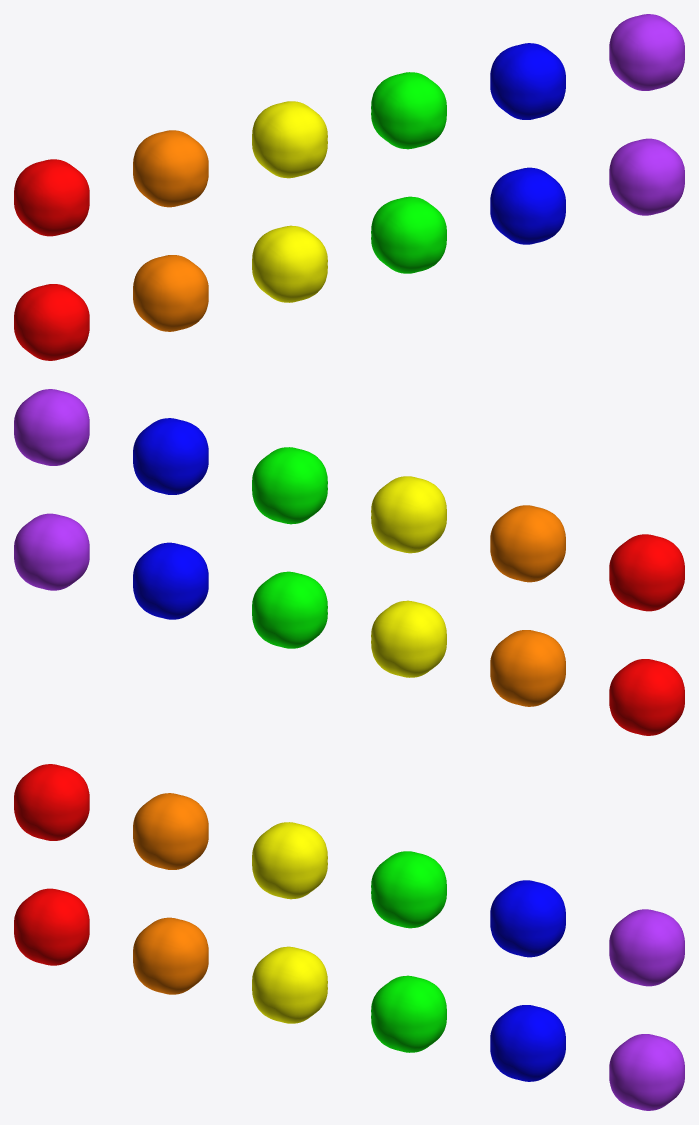
Rendered from simple_008_MaterialAttribute-Color_00.dae.
3 renders of one model, top to bottom at view 1: azimuth 30°, elevation 25°; view 2: azimuth 150°, elevation 25°; view 3: azimuth 330°, elevation 25°, orthographic.
Visible parts, largest first — view 1: pCube5, pCube8, pCube6, pCube7, pCube4, pCube9, pCube3, pCube10, pCube2, pCube11, pCube1, pCube12; view 2: pCube5, pCube8, pCube6, pCube7, pCube4, pCube9, pCube3, pCube10, pCube2, pCube11, pCube1, pCube12; view 3: pCube2, pCube11, pCube1, pCube12, pCube3, pCube10, pCube4, pCube9, pCube5, pCube8, pCube6, pCube7.
Boxes of the visible parts, left/top/right/bottom form: pCube5: left=490, top=167, right=565, bottom=244; pCube8: left=133, top=130, right=208, bottom=207; pCube6: left=609, top=138, right=684, bottom=215; pCube7: left=14, top=159, right=89, bottom=236; pCube4: left=371, top=196, right=446, bottom=273; pCube9: left=252, top=101, right=327, bottom=178; pCube3: left=252, top=225, right=327, bottom=302; pCube10: left=371, top=72, right=446, bottom=149; pCube2: left=133, top=255, right=208, bottom=331; pCube11: left=490, top=43, right=565, bottom=119; pCube1: left=14, top=284, right=89, bottom=360; pCube12: left=609, top=14, right=684, bottom=90; pCube5: left=133, top=542, right=208, bottom=619; pCube8: left=490, top=505, right=565, bottom=582; pCube6: left=14, top=513, right=89, bottom=590; pCube7: left=609, top=534, right=684, bottom=611; pCube4: left=252, top=571, right=327, bottom=648; pCube9: left=371, top=476, right=446, bottom=553; pCube3: left=371, top=600, right=446, bottom=677; pCube10: left=252, top=447, right=327, bottom=524; pCube2: left=490, top=630, right=565, bottom=706; pCube11: left=133, top=418, right=208, bottom=494; pCube1: left=609, top=659, right=684, bottom=735; pCube12: left=14, top=389, right=89, bottom=465; pCube2: left=133, top=917, right=208, bottom=994; pCube11: left=490, top=880, right=565, bottom=957; pCube1: left=14, top=888, right=89, bottom=965; pCube12: left=609, top=909, right=684, bottom=986; pCube3: left=252, top=946, right=327, bottom=1023; pCube10: left=371, top=851, right=446, bottom=928; pCube4: left=371, top=975, right=446, bottom=1052; pCube9: left=252, top=822, right=327, bottom=899; pCube5: left=490, top=1005, right=565, bottom=1081; pCube8: left=133, top=793, right=208, bottom=869; pCube6: left=609, top=1034, right=684, bottom=1110; pCube7: left=14, top=764, right=89, bottom=840.
Size of the model in its own units: 166 by 16.4 by 46.4.
